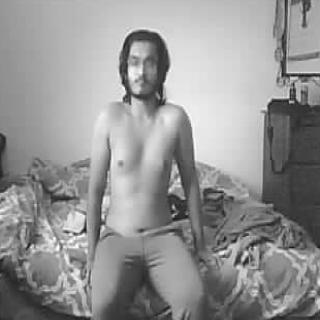Gray Sweatpants: (91, 226, 204, 320)
